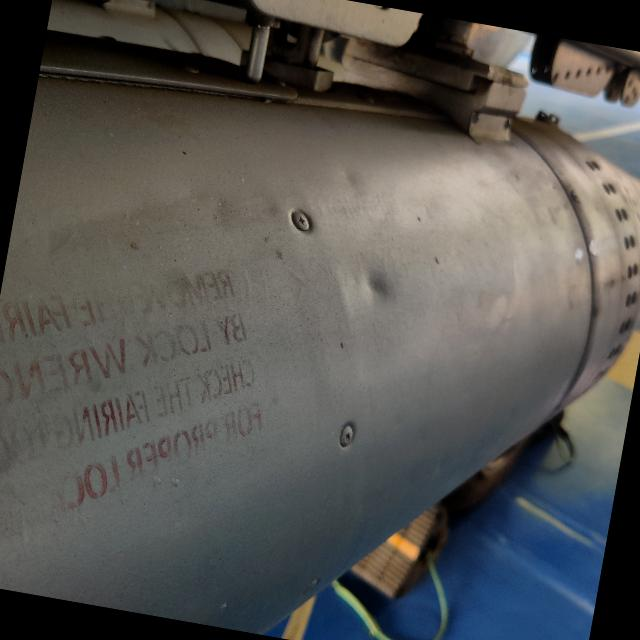dent: (342, 252, 410, 323)
